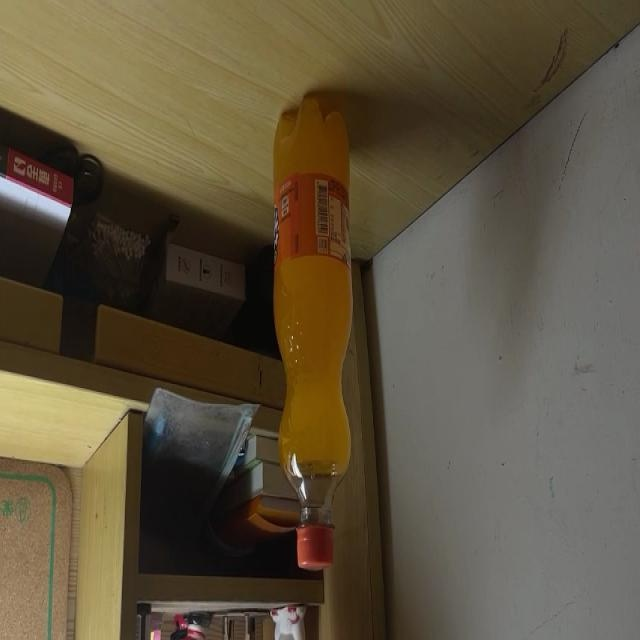Fanta: (271, 91, 354, 570)
